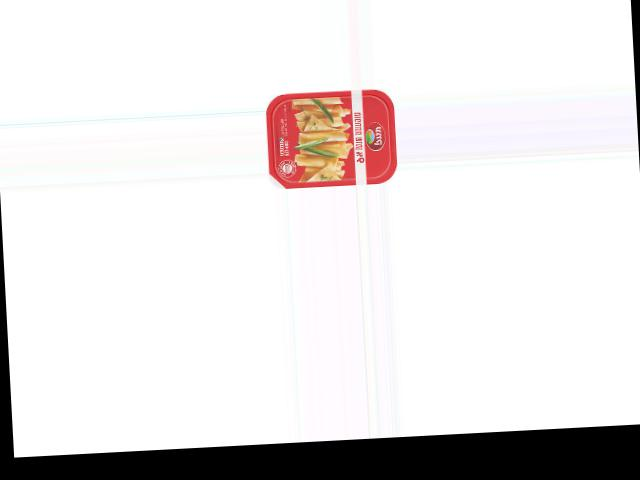cheese: (264, 87, 398, 189)
